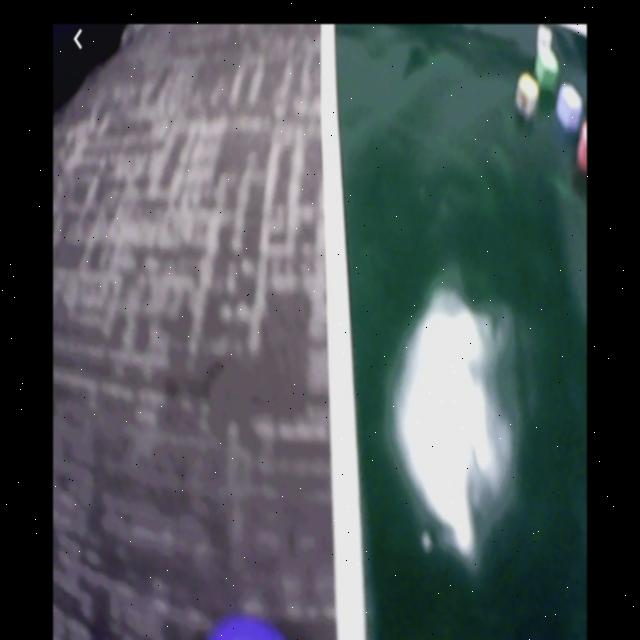ball: (207, 614, 292, 640)
